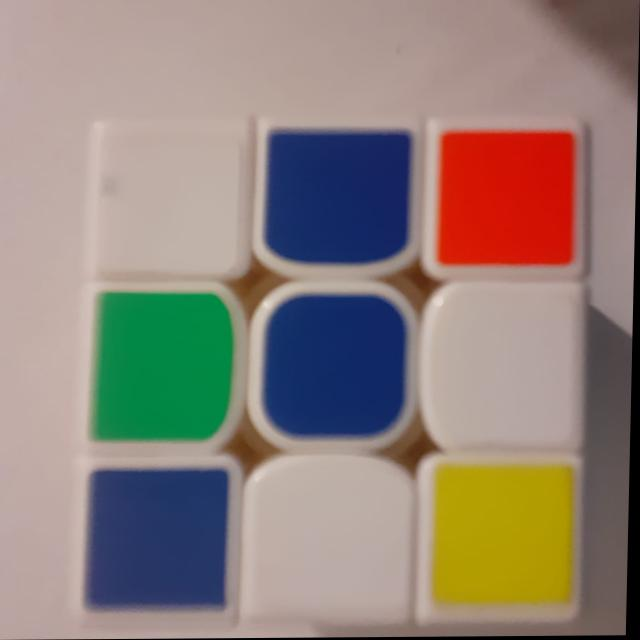Blue: (251, 283, 420, 449), (79, 461, 240, 623), (255, 119, 420, 275)
Green: (85, 286, 242, 456)
Orange: (428, 119, 589, 273)
White: (422, 285, 591, 456), (243, 456, 416, 623), (91, 122, 246, 278)
Yellow: (422, 455, 588, 623)
